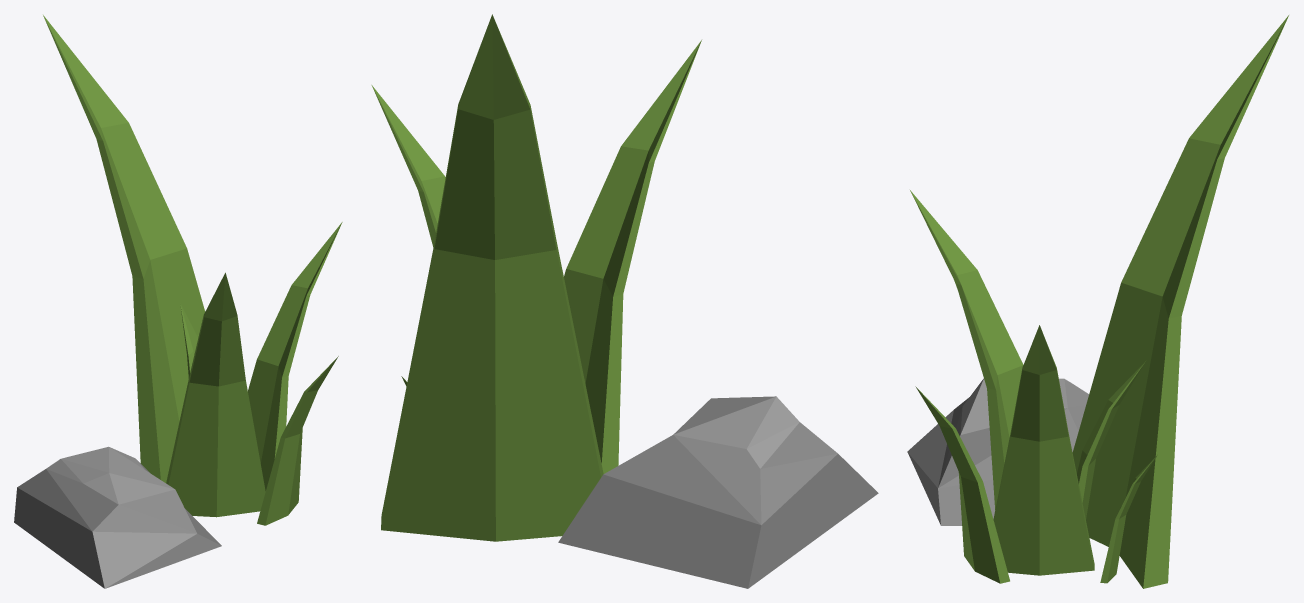
The model's file is Grass.glb.
3 views of the same model, side by side, from view 1: azimuth 30°, elevation 25°; view 2: azimuth 150°, elevation 25°; view 3: azimuth 270°, elevation 25° (orthographic). The views are drawn at different scales.
Parts seen in each view (by area): view 1: rock_2; view 2: rock_2; view 3: rock_2.
Part boxes in pixels (x1=…): rock_2: x1=14, y1=15, x2=342, y2=588; rock_2: x1=371, y1=14, x2=878, y2=588; rock_2: x1=907, y1=15, x2=1288, y2=588.
Bounding box in the file's own units: 0.6835 × 0.9383 × 0.6559.
